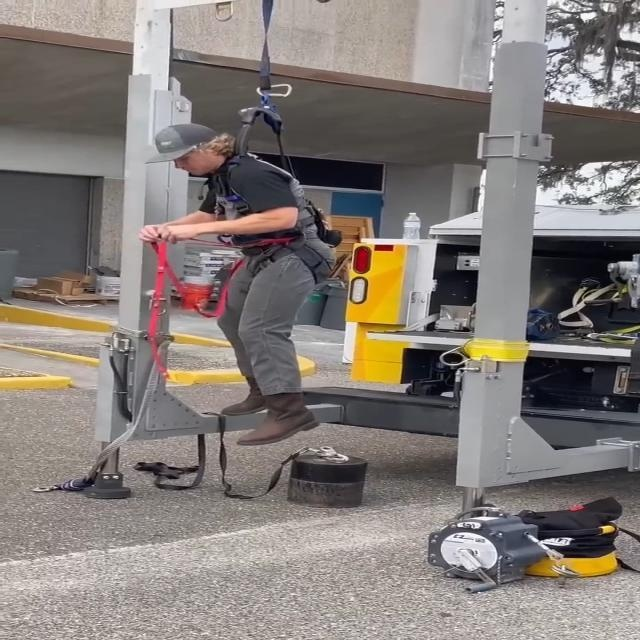Arnes_seguridad: (181, 93, 356, 298)
